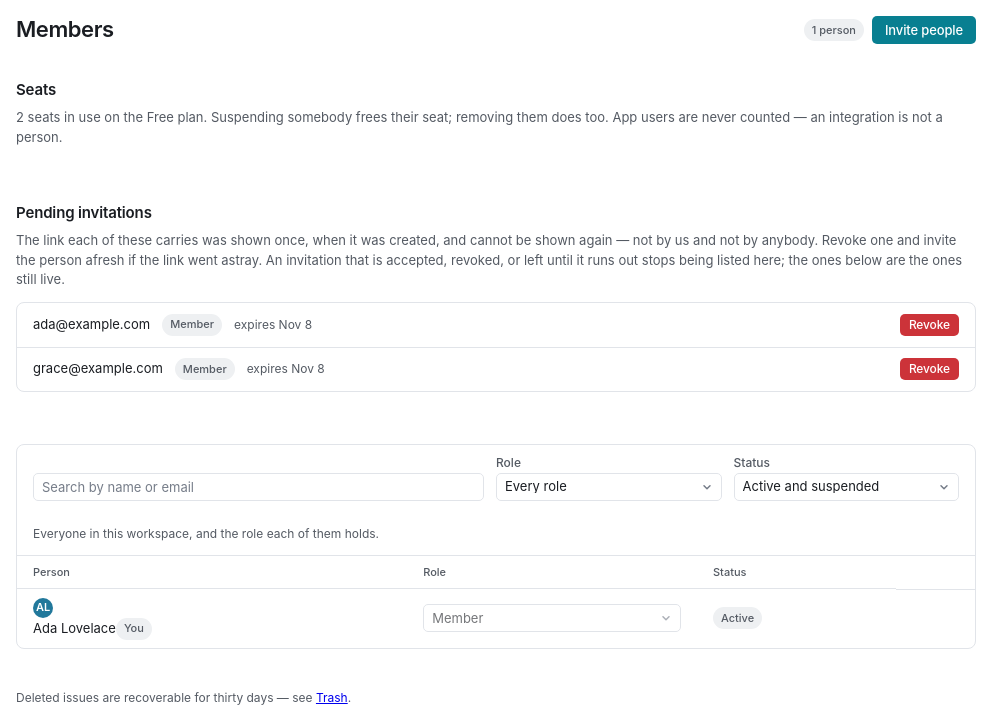
Test: MemberSettings · revoking › revokes, takes the row away, and says so out loud
Click the button with aria-label "Revoke the invitation to ada@example.com": click(929, 324) x1=900 y1=314 x2=959 y2=336
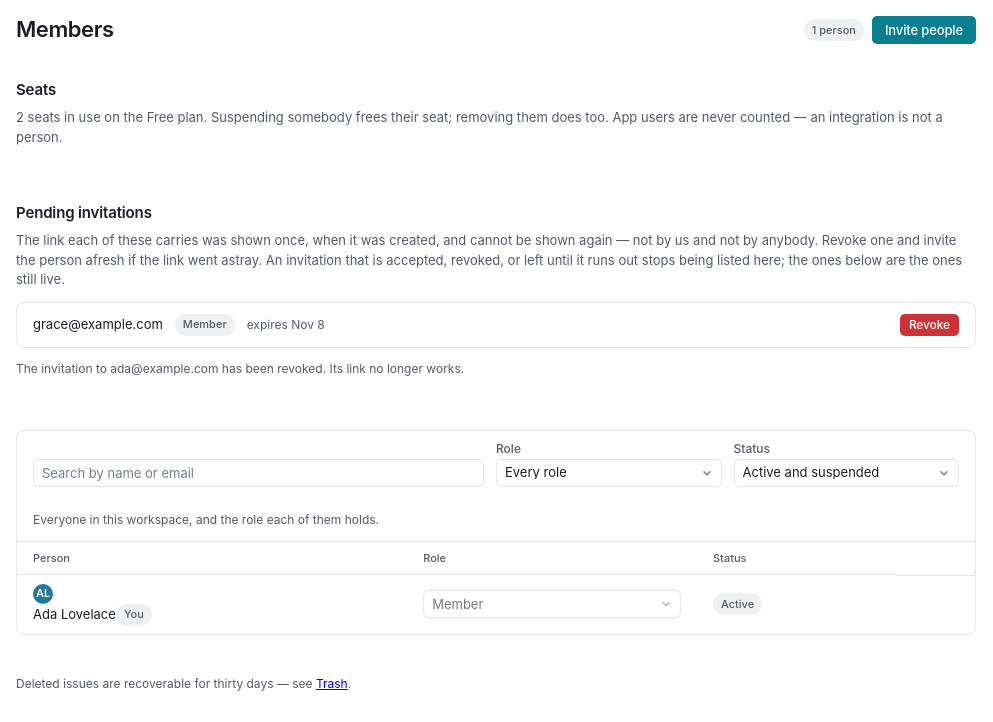
Result: the text "The invitation to ada@example.com has been revoked. Its link no longer works." is shown at x1=16 y1=360 x2=464 y2=376
